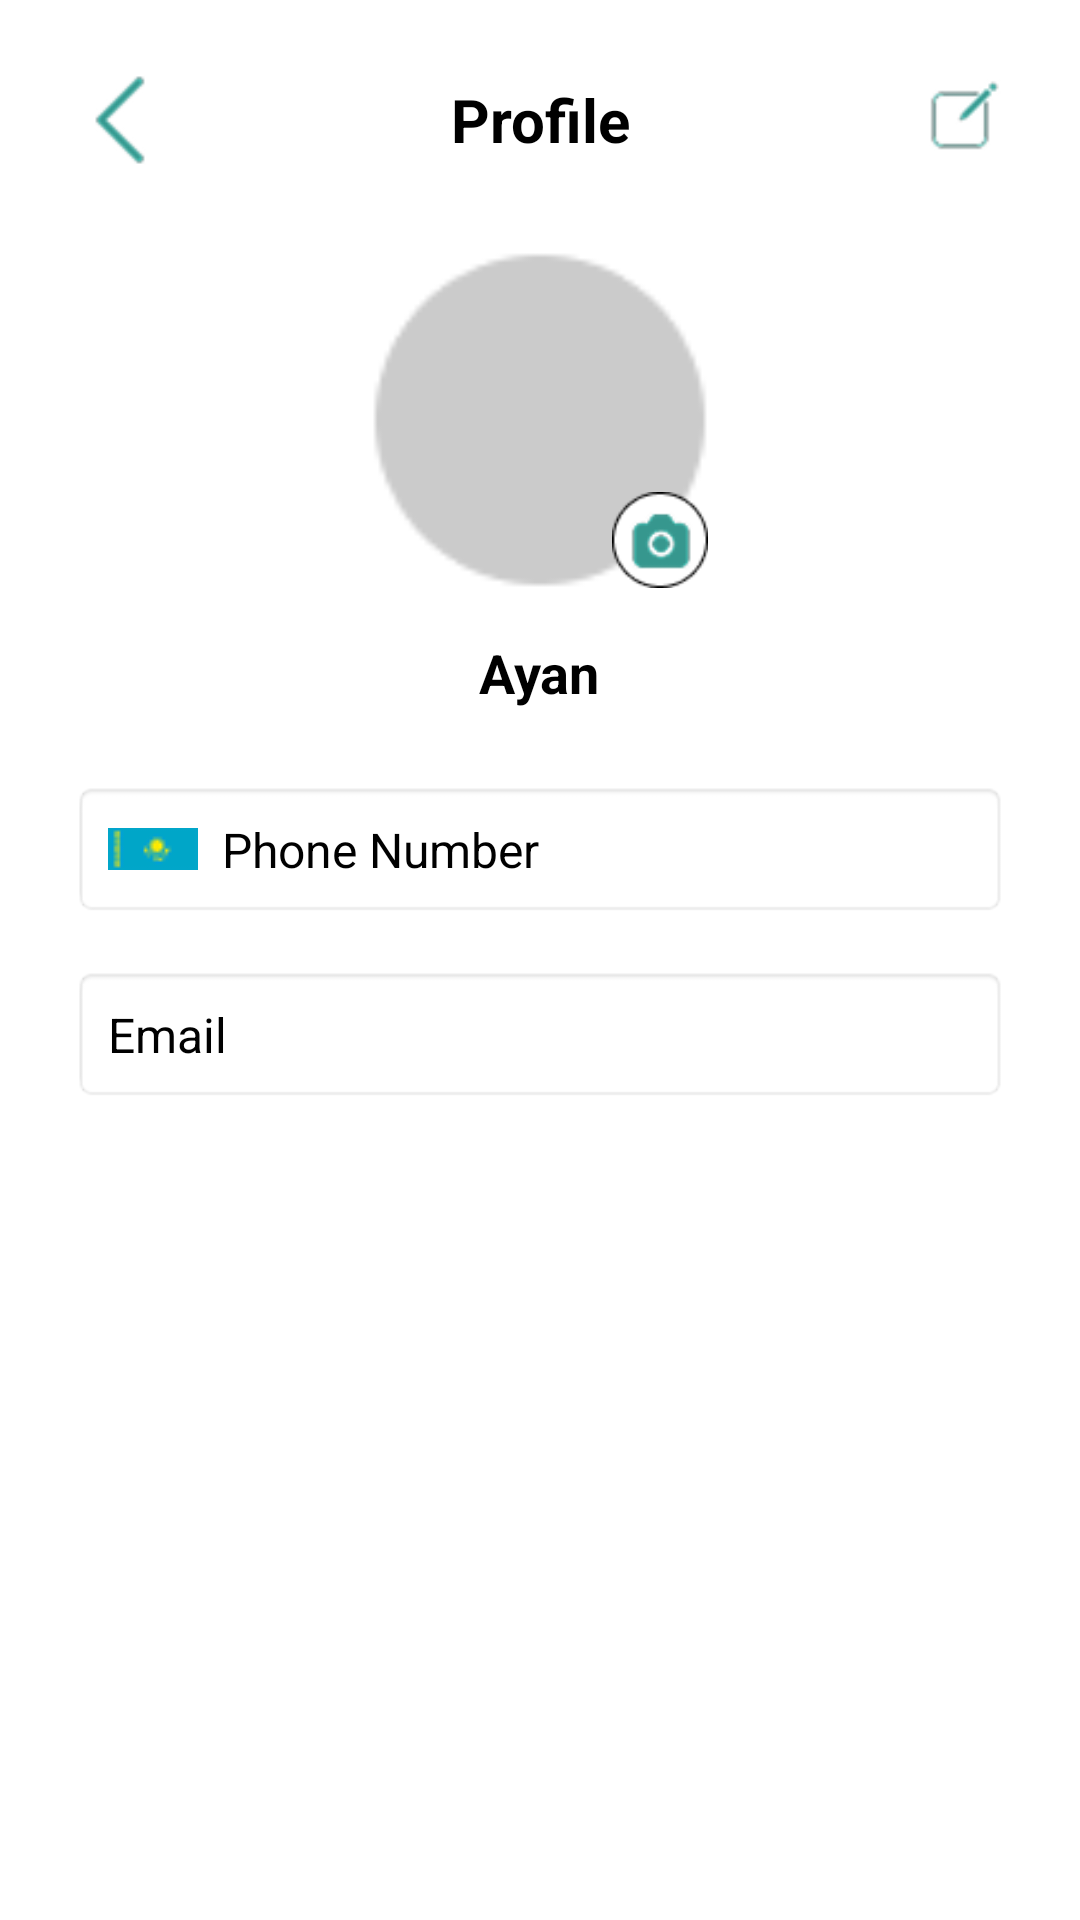

Where icons sit on this 1080 x 1920 app screen, as detection(x1, y1, x2, y2):
Back: detection(95, 76, 145, 164)
Change photo: detection(631, 514, 691, 569)
Edit: detection(931, 82, 998, 149)
